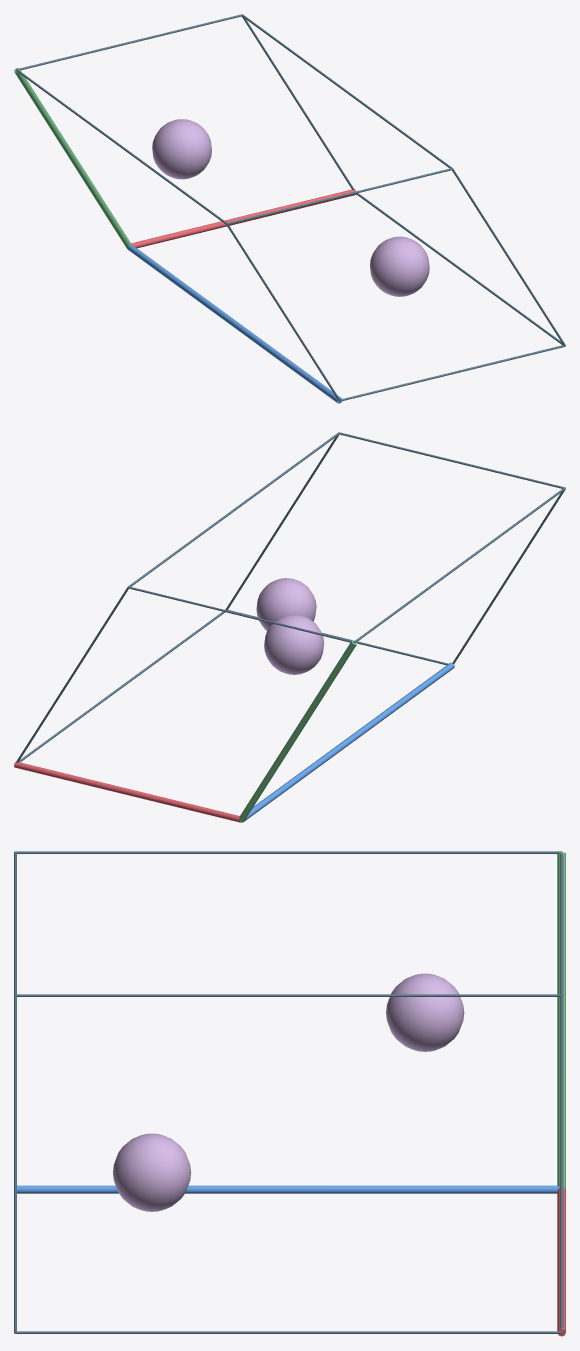
The model's file is nguyen-to-re.glb.
3 renders of one model, top to bottom at view 1: azimuth 30°, elevation 25°; view 2: azimuth 150°, elevation 25°; view 3: azimuth 270°, elevation 25°, orthographic. The views are drawn at different scales.
Parts seen in each view (by area): view 1: Ô mạng và các trục a, b, c, Re · Re · 1 (×2); view 2: Ô mạng và các trục a, b, c, Re · Re · 1 (×2); view 3: Ô mạng và các trục a, b, c, Re · Re · 1 (×2).
Boxes of the visible parts, x1,y1,x2,y2 form: Ô mạng và các trục a, b, c: (14, 14, 565, 403); Re · Re · 1 (×2): (152, 119, 429, 296); Ô mạng và các trục a, b, c: (14, 432, 565, 822); Re · Re · 1 (×2): (256, 578, 324, 674); Ô mạng và các trục a, b, c: (14, 851, 565, 1336); Re · Re · 1 (×2): (113, 973, 464, 1211).
Bounding box in the file's own units: 4.18 × 2.44 × 4.51.
